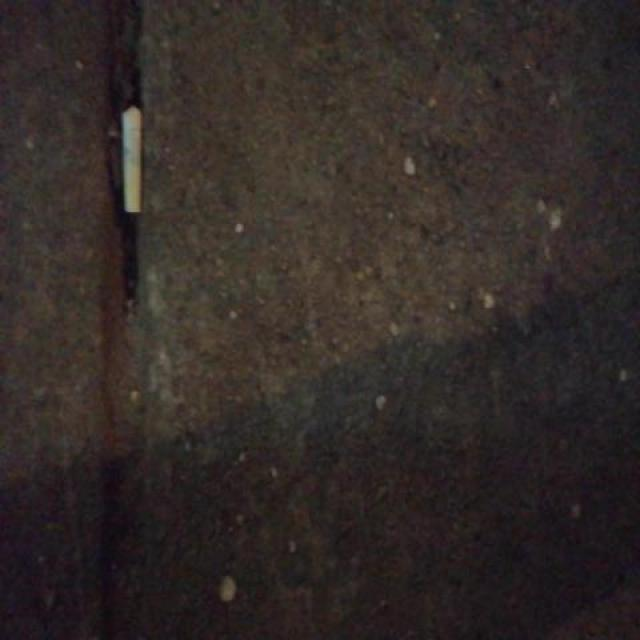non-organic waste: (116, 103, 147, 216)
